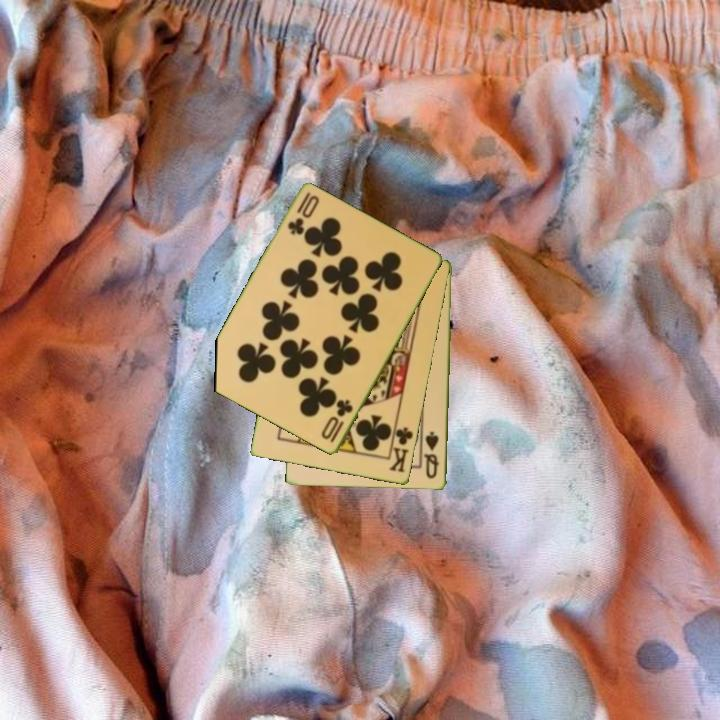10c: (318, 396, 356, 446), (284, 189, 313, 238)
Kc: (386, 420, 416, 476)
Qs: (422, 428, 442, 482)
